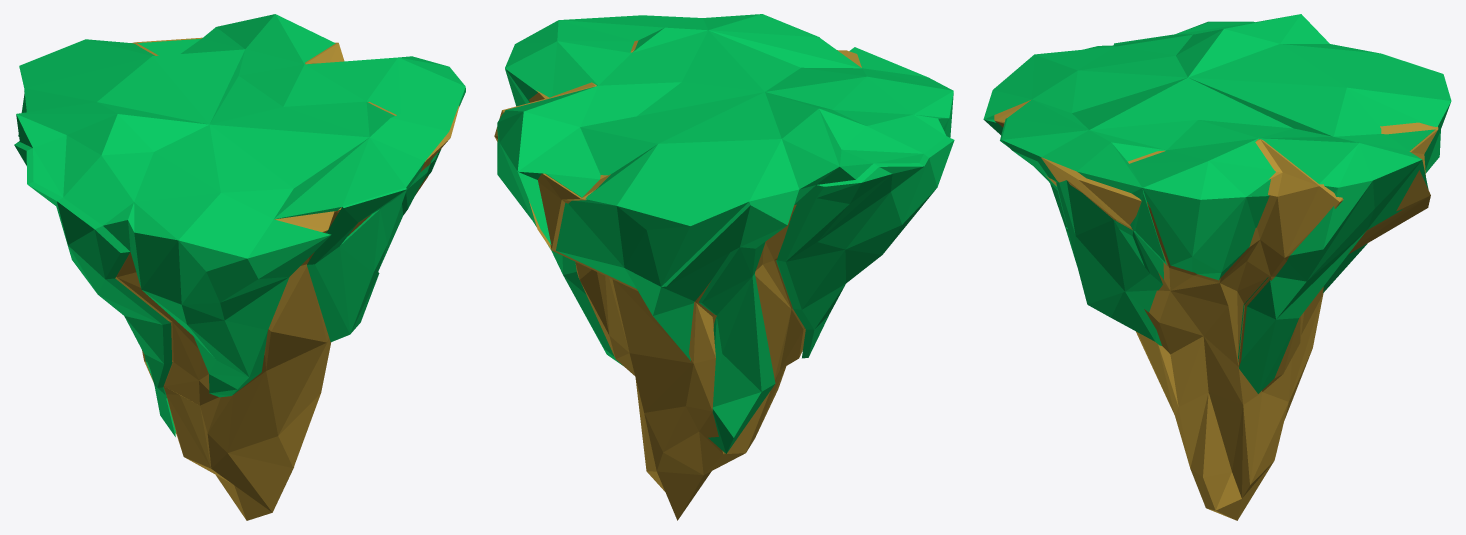
The model's file is ENV_Floating_Island_02.fbx.
3 views of the same model, side by side, from view 1: azimuth 30°, elevation 25°; view 2: azimuth 150°, elevation 25°; view 3: azimuth 270°, elevation 25° (orthographic). The views are drawn at different scales.
Parts seen in each view (by area): view 1: ENV_Floating_Island_02_Grass, ENV_Floating_Island_02; view 2: ENV_Floating_Island_02_Grass, ENV_Floating_Island_02; view 3: ENV_Floating_Island_02_Grass, ENV_Floating_Island_02.
Boxes of the visible parts, x1,y1,x2,y2 form: ENV_Floating_Island_02_Grass: (14,14,465,436); ENV_Floating_Island_02: (115,37,459,520); ENV_Floating_Island_02_Grass: (497,14,954,453); ENV_Floating_Island_02: (494,40,861,520); ENV_Floating_Island_02_Grass: (983,14,1451,393); ENV_Floating_Island_02: (994,100,1438,520).
Bounding box in the file's own units: 5003 × 5091 × 5043.
